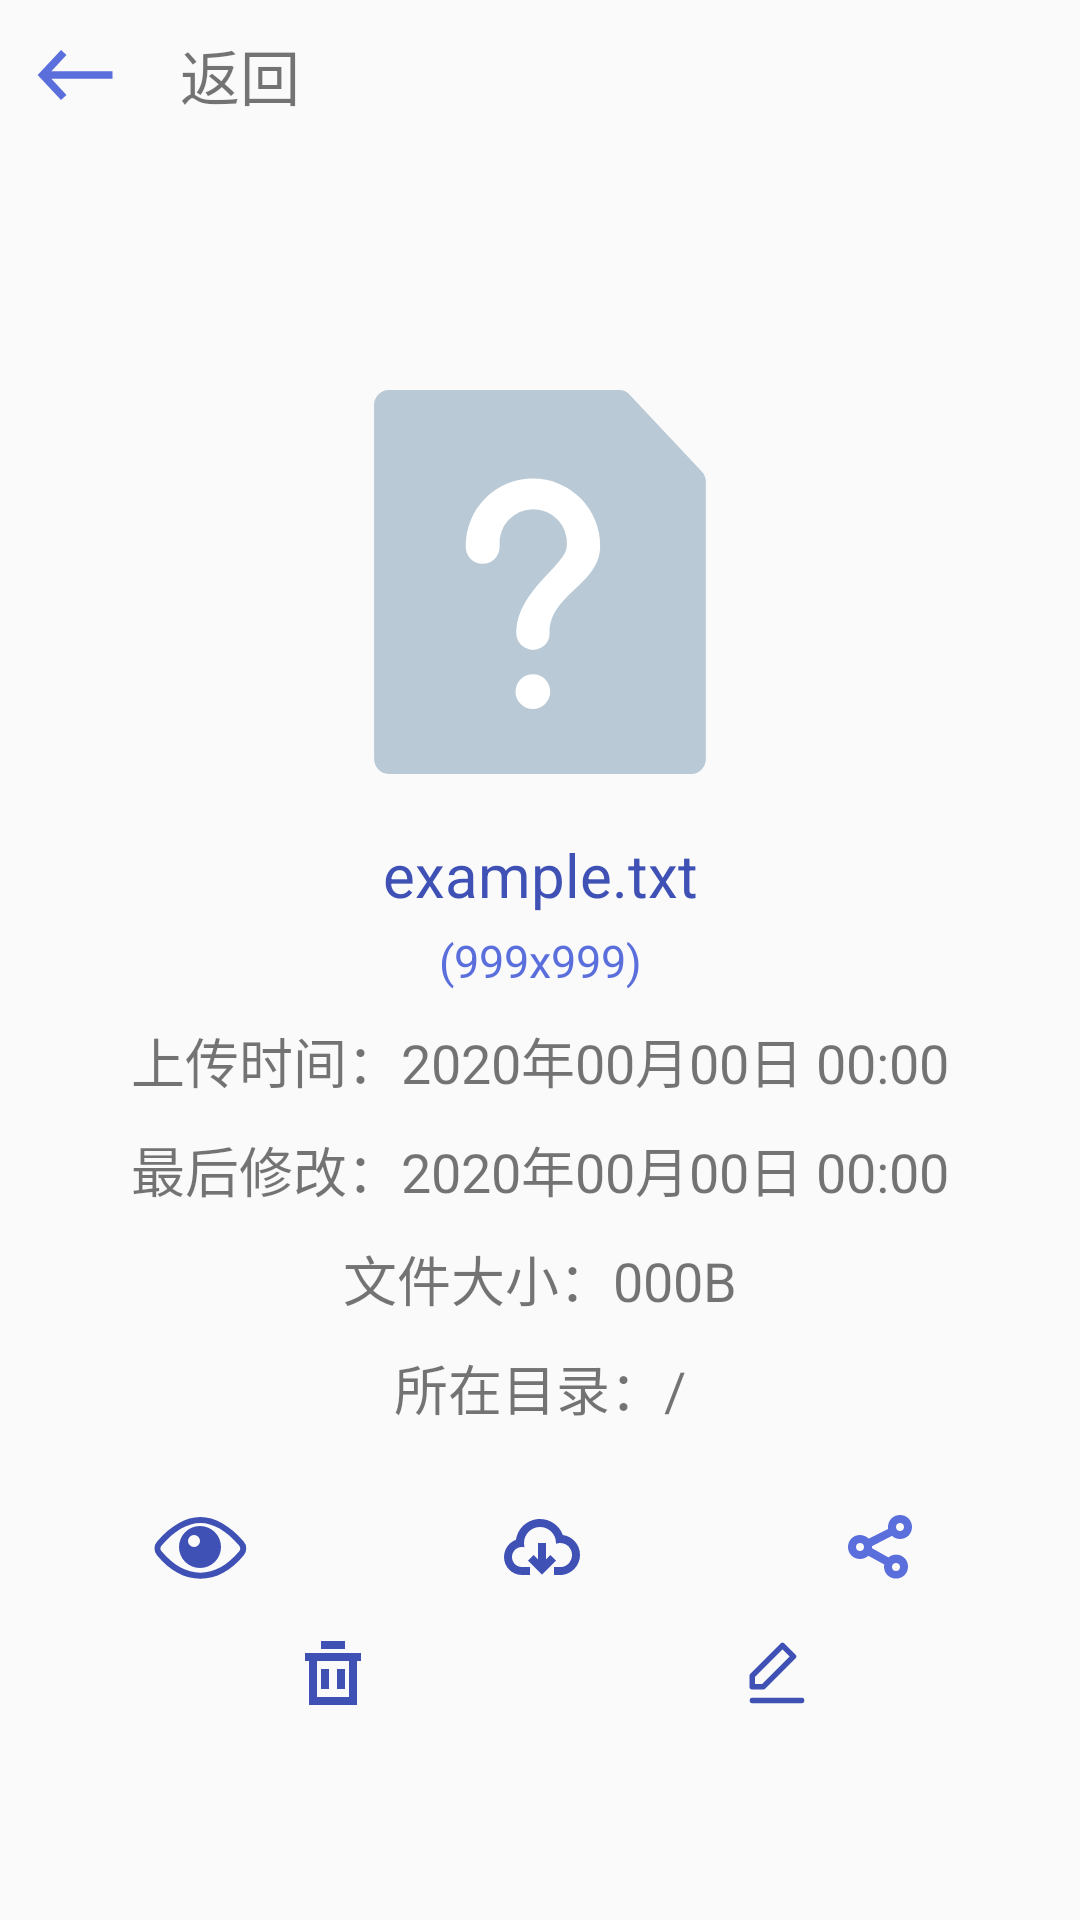

Where to tap for icons on this 1080w x 1920h app screen, as (x=x, y=y):
back: (x=75, y=75)
delete: (x=333, y=1673)
download: (x=542, y=1547)
rename: (x=777, y=1673)
share: (x=880, y=1547)
